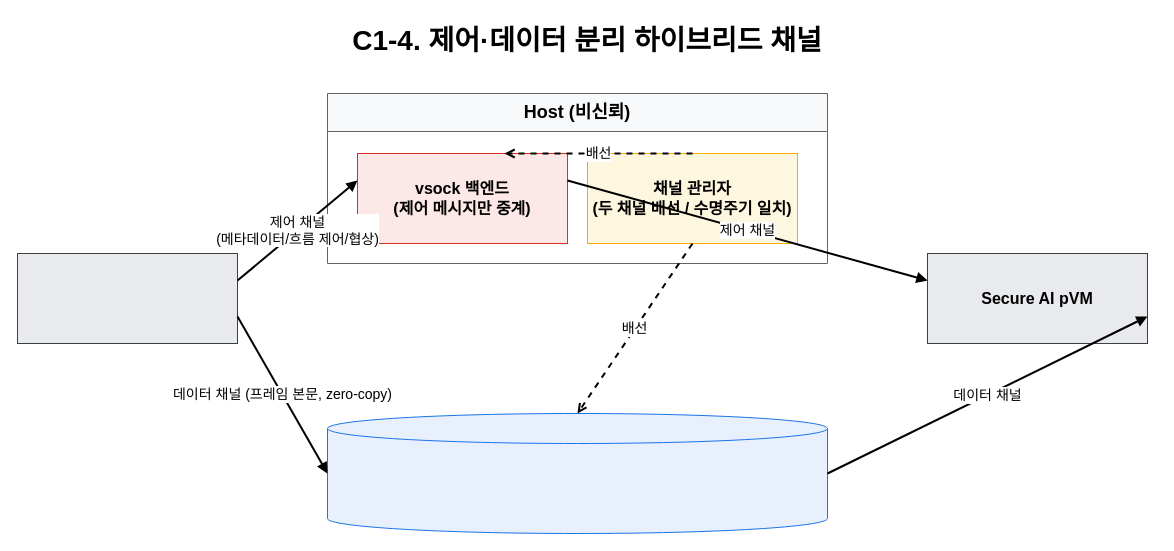
Some shapes in this 1174 by 551 pixel diagram are drawn without their labels. Each missing label, with the centre of its shape:
"Secure Camera pVM" goes at [127,298].
"공유 버퍼 풀 (데이터 채널, Host 비매핑)" goes at [577,473].
